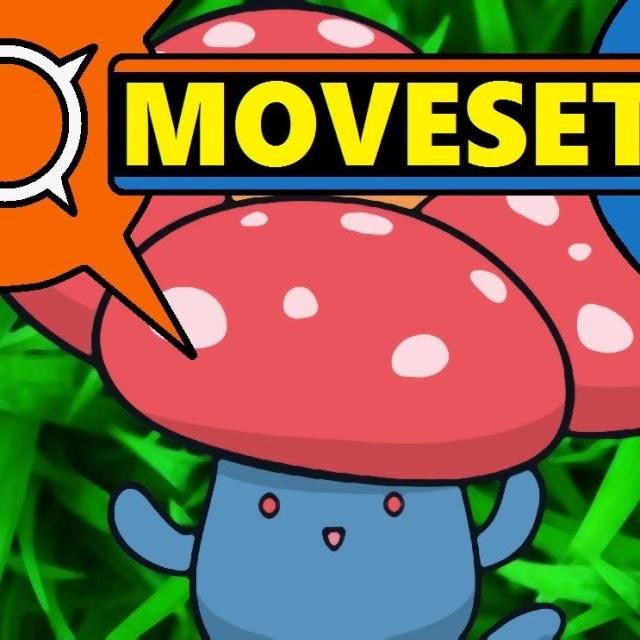Vileplume: (92, 192, 572, 635)
